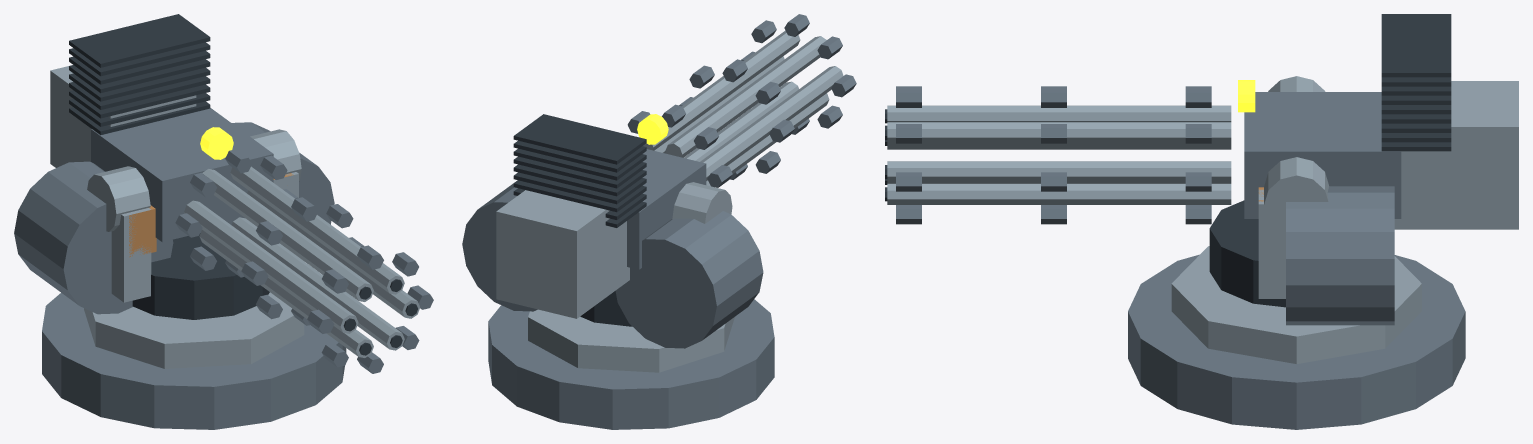
File: rotor_t3.glb
The picture shows the model from 3 angles, left to right: view 1: azimuth 30°, elevation 25°; view 2: azimuth 150°, elevation 25°; view 3: azimuth 270°, elevation 25°; orthographic projection. The views are drawn at different scales.
Parts seen in each view (by area): view 1: Foundation, Rotary barrel (×6), Rear radiator (×9), Ammunition drum (×2), Receiver, Base upper armor, Cage fastener (×15), Yaw bearing, Trunnion (×2), Rear equipment, Elevation fork, Feed chute (+1 smaller); view 2: Foundation, Ammunition drum (×2), Rear equipment, Rotary barrel (×6), Rear radiator (×8), Base upper armor, Cage fastener (×12), Receiver, Trunnion, Yaw bearing, Tracking lens; view 3: Foundation, Rotary barrel (×5), Ammunition drum, Rear equipment, Receiver, Base upper armor, Rear radiator (×9), Yaw bearing, Trunnion (×2), Elevation fork, Tracking lens.
Boxes of the visible parts, bbox=[...] form: Foundation: bbox=[42, 293, 346, 429]; Rotary barrel (×6): bbox=[184, 166, 420, 357]; Rear radiator (×9): bbox=[69, 14, 210, 135]; Ammunition drum (×2): bbox=[14, 122, 334, 314]; Receiver: bbox=[91, 108, 273, 241]; Base upper armor: bbox=[84, 292, 304, 368]; Cage fastener (×15): bbox=[175, 149, 418, 367]; Yaw bearing: bbox=[132, 233, 269, 319]; Trunnion (×2): bbox=[87, 129, 301, 231]; Rear equipment: bbox=[50, 65, 196, 167]; Elevation fork: bbox=[111, 208, 151, 302]; Feed chute: bbox=[129, 205, 156, 257]; Foundation: bbox=[488, 299, 774, 429]; Ammunition drum (×2): bbox=[462, 180, 763, 348]; Rear equipment: bbox=[496, 190, 629, 318]; Rotary barrel (×6): bbox=[643, 30, 843, 187]; Rear radiator (×8): bbox=[513, 114, 646, 219]; Base upper armor: bbox=[528, 309, 734, 372]; Cage fastener (×12): bbox=[689, 14, 856, 187]; Receiver: bbox=[627, 149, 706, 269]; Trunnion: bbox=[672, 182, 732, 223]; Yaw bearing: bbox=[580, 291, 631, 326]; Tracking lens: bbox=[637, 114, 668, 144]; Foundation: bbox=[1128, 254, 1465, 429]; Rotary barrel (×5): bbox=[887, 105, 1231, 204]; Ammunition drum: bbox=[1286, 186, 1394, 325]; Rear equipment: bbox=[1394, 81, 1518, 229]; Receiver: bbox=[1244, 92, 1401, 218]; Base upper armor: bbox=[1171, 246, 1421, 364]; Rear radiator (×9): bbox=[1381, 14, 1451, 151]; Yaw bearing: bbox=[1209, 200, 1285, 307]; Trunnion (×2): bbox=[1264, 76, 1328, 231]; Elevation fork: bbox=[1258, 189, 1285, 298]; Tracking lens: bbox=[1238, 80, 1255, 112].
Size of the model in its own units: 1.58 by 1.6 by 2.91.
